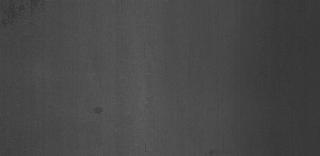water spot: (90, 103, 108, 117)
